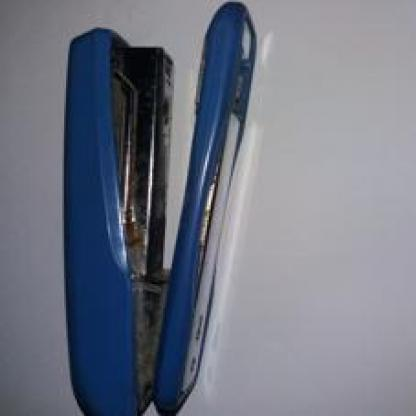stapler: (54, 0, 297, 415)
